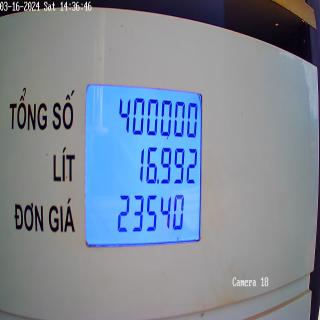screen: (83, 79, 205, 248)
